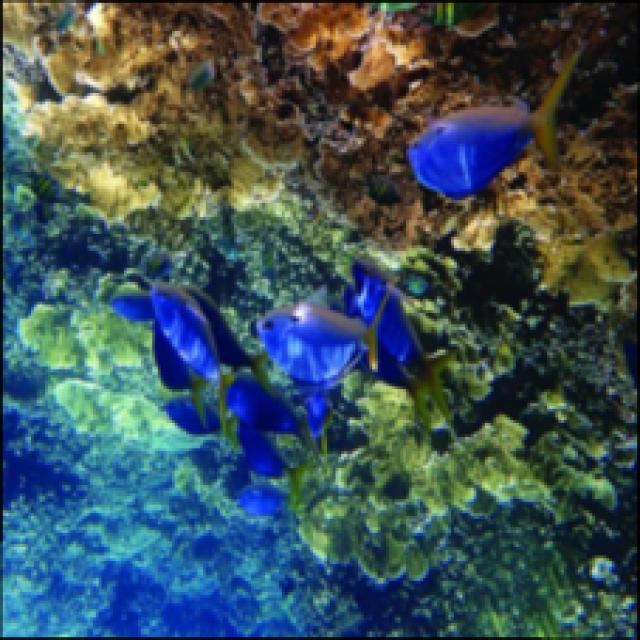Healthy: (9, 4, 472, 246), (461, 55, 635, 300), (294, 418, 548, 582), (21, 303, 184, 452)
